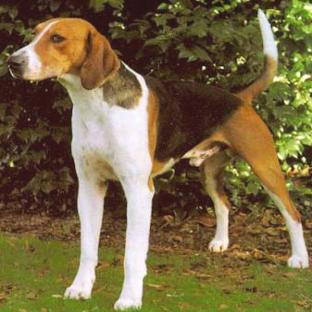Animal: (8, 10, 308, 310)
